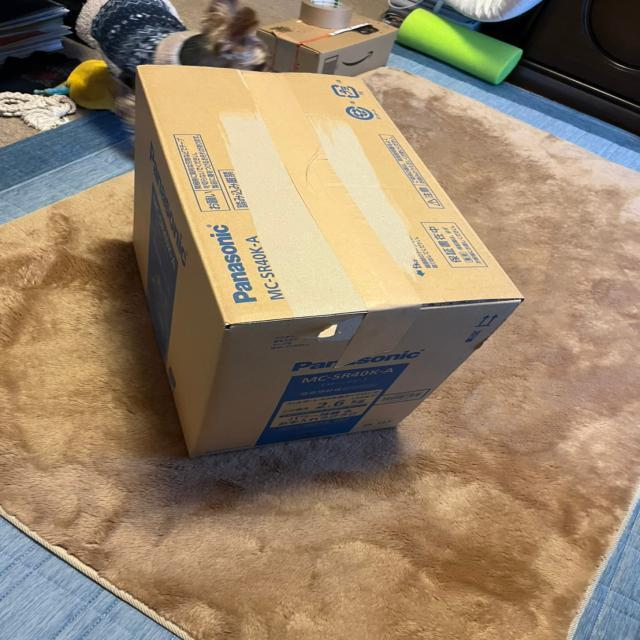box: (117, 55, 532, 465)
